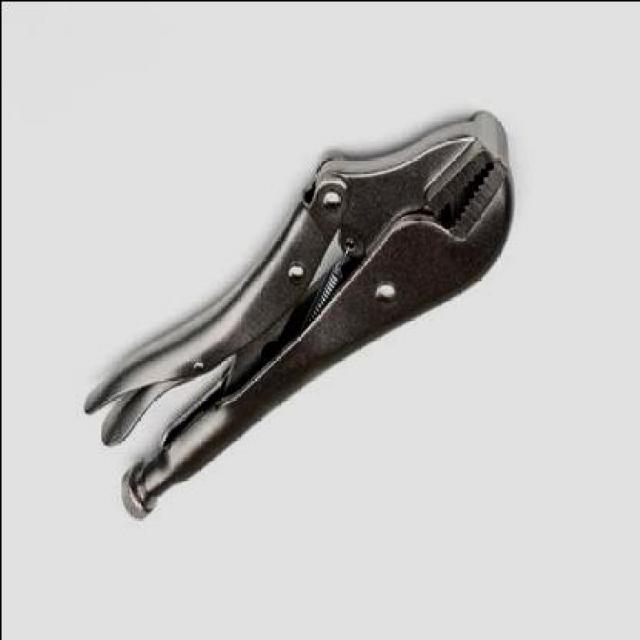pliers: (83, 108, 519, 520)
